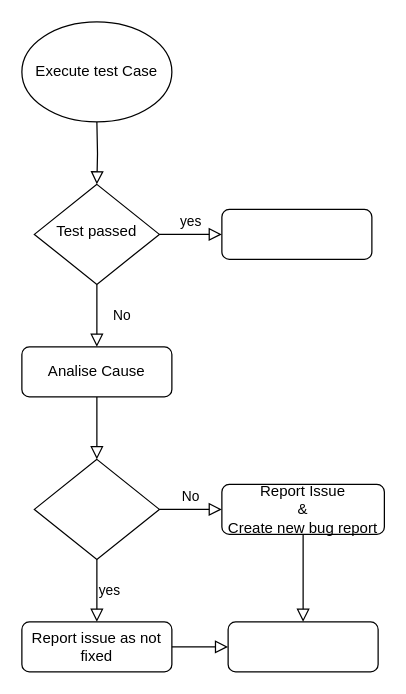
Some shapes in this 406 by 694 pixel diagram are drawn without their labels. The box of each missing label's shape, as (x1, y1, x2, y2) in pixels:
Alredy known cause: (33, 458, 159, 559)
Fail Case: (227, 621, 378, 672)
Validate Case: (221, 208, 372, 259)
